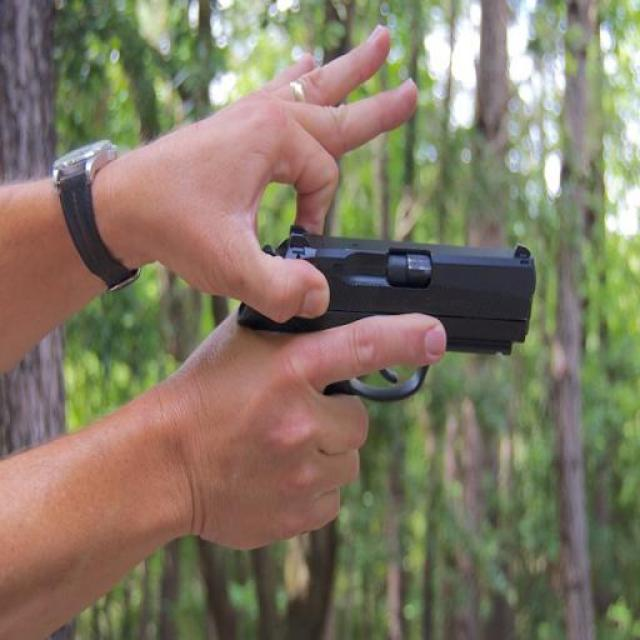pistol: (217, 224, 541, 409)
